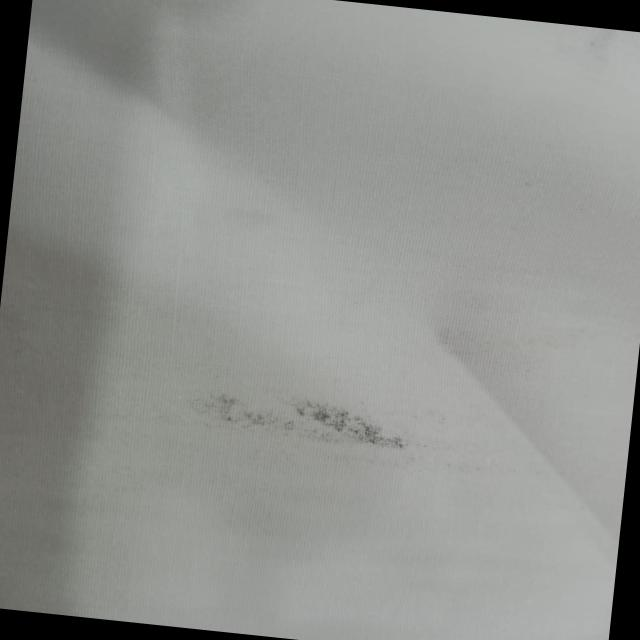stain: (183, 378, 425, 466)
